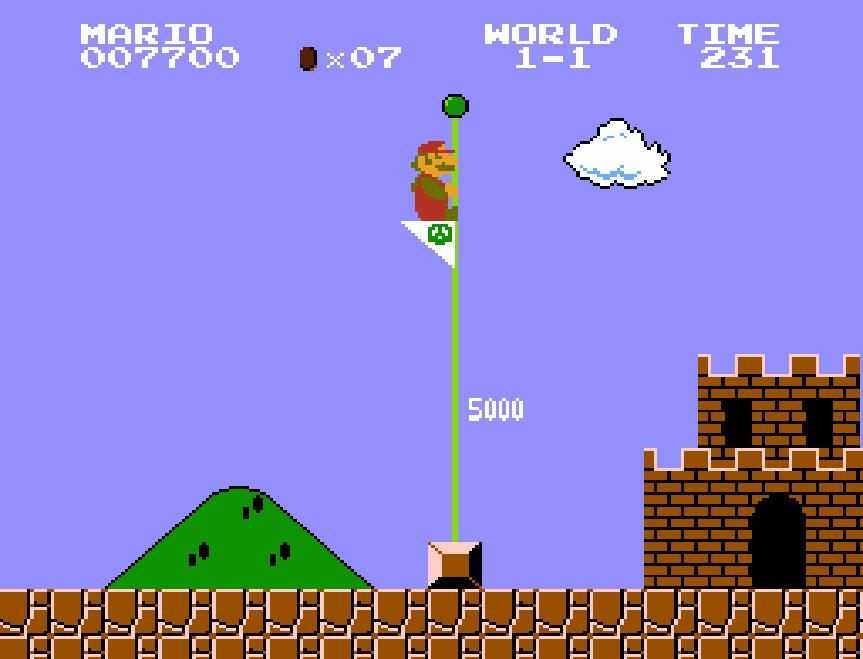big_mario: (402, 133, 461, 231)
